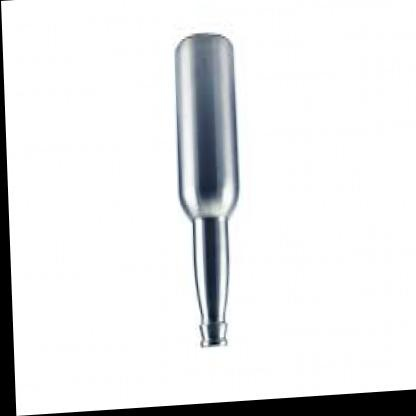trash: (175, 33, 238, 346)
